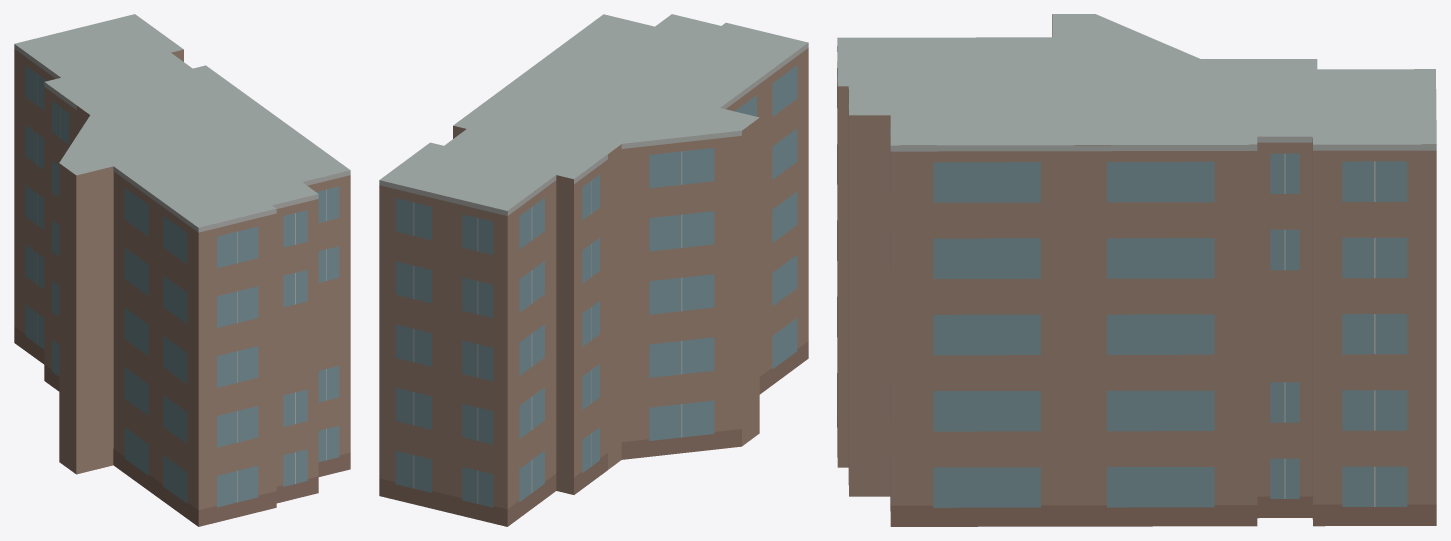
File: survey-upis-32921359.glb
3 renders of one model, left to right at view 1: azimuth 30°, elevation 25°; view 2: azimuth 150°, elevation 25°; view 3: azimuth 270°, elevation 25°, orthographic. The views are drawn at different scales.
Parts seen in each view (by area): view 1: survey-upis-32921359.tmp; view 2: survey-upis-32921359.tmp; view 3: survey-upis-32921359.tmp.
Boxes of the visible parts, <box> form: survey-upis-32921359.tmp: <box>14,14,350,526</box>; survey-upis-32921359.tmp: <box>379,14,808,526</box>; survey-upis-32921359.tmp: <box>837,14,1436,526</box>.
Bounding box in the file's own units: 11.28 × 15.25 × 21.74.
